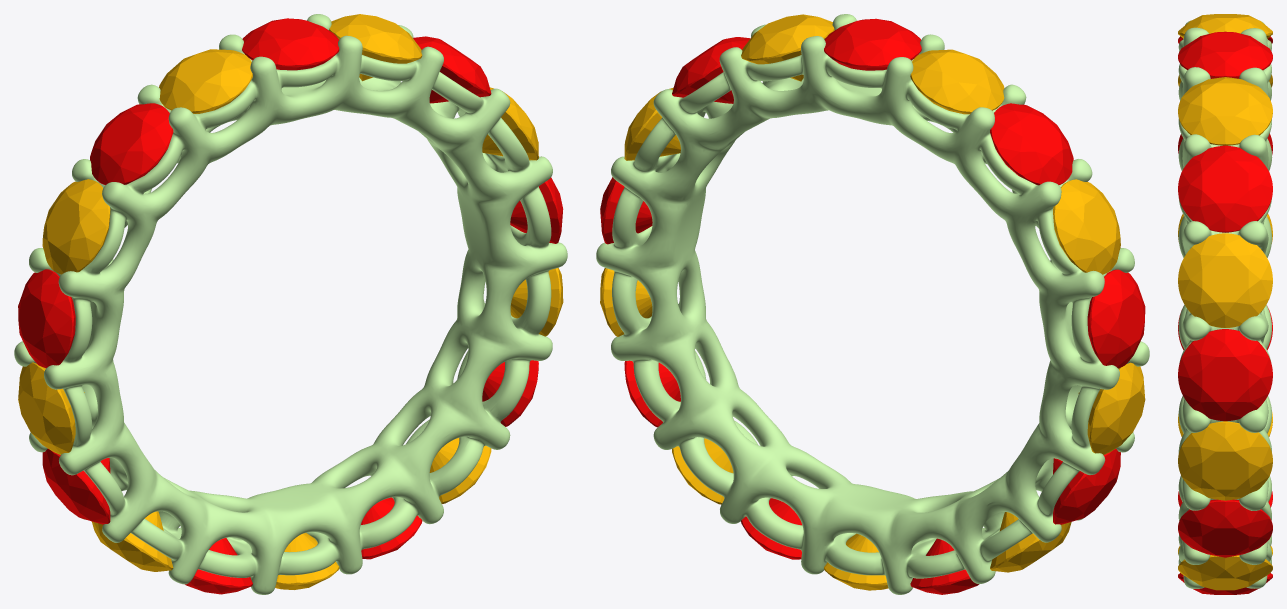
The model's file is TCC-RN-CR-32187-Round-Eternity-20.glb.
3 renders of one model, left to right at view 1: azimuth 30°, elevation 25°; view 2: azimuth 150°, elevation 25°; view 3: azimuth 270°, elevation 25°, orthographic. The views are drawn at different scales.
Visible parts, largest first — view 1: Metal03, Diamond Band01.001, Diamond Band02.001, Diamond Band02, Diamond Band01.002, Diamond Band01, Diamond Band02.002, Diamond Band02.008, Diamond Band01.003, Diamond Band01.008, Diamond Band02.003, Diamond Band02.007 (+7 smaller); view 2: Metal03, Diamond Band01.001, Diamond Band02.001, Diamond Band02, Diamond Band01.002, Diamond Band01, Diamond Band02.002, Diamond Band02.008, Diamond Band01.003, Diamond Band01.008, Diamond Band02.003, Diamond Band02.007 (+7 smaller); view 3: Metal03, Diamond Band02.007, Diamond Band01.007, Diamond Band01.008, Diamond Band02.006, Diamond Band02.008, Diamond Band01.006, Diamond Band01, Diamond Band02.005, Diamond Band02, Diamond Band01.005.
Part boxes in pixels (x1,y1,x2,y2): Metal03: (14,14,567,594); Diamond Band01.001: (90,103,173,184); Diamond Band02.001: (42,179,110,274); Diamond Band02: (159,49,252,113); Diamond Band01.002: (18,269,75,368); Diamond Band01: (242,18,339,70); Diamond Band02.002: (18,362,84,454); Diamond Band02.008: (329,14,422,81); Diamond Band01.003: (42,448,110,524); Diamond Band01.008: (413,36,491,103); Diamond Band02.003: (91,511,173,571); Diamond Band02.007: (482,87,538,160); Metal03: (596,14,1149,594); Diamond Band01.001: (990,103,1073,185); Diamond Band02.001: (1053,179,1120,274); Diamond Band02: (910,49,1004,114); Diamond Band01.002: (1087,269,1145,368); Diamond Band01: (824,18,921,70); Diamond Band02.002: (1078,362,1145,454); Diamond Band02.008: (741,14,834,81); Diamond Band01.003: (1053,449,1120,524); Diamond Band01.008: (672,37,750,103); Diamond Band02.003: (990,512,1071,572); Diamond Band02.007: (624,87,680,160); Metal03: (1178,20,1272,588); Diamond Band02.007: (1178,233,1272,327); Diamond Band01.007: (1178,329,1272,421); Diamond Band01.008: (1178,145,1272,232); Diamond Band02.006: (1178,421,1272,500); Diamond Band02.008: (1178,77,1272,145); Diamond Band01.006: (1178,499,1272,557); Diamond Band01: (1178,31,1272,78); Diamond Band02.005: (1178,555,1272,590); Diamond Band02: (1178,14,1272,38); Diamond Band01.005: (1178,573,1272,594).
Bounding box in the file's own units: 24.36 × 24.39 × 4.
